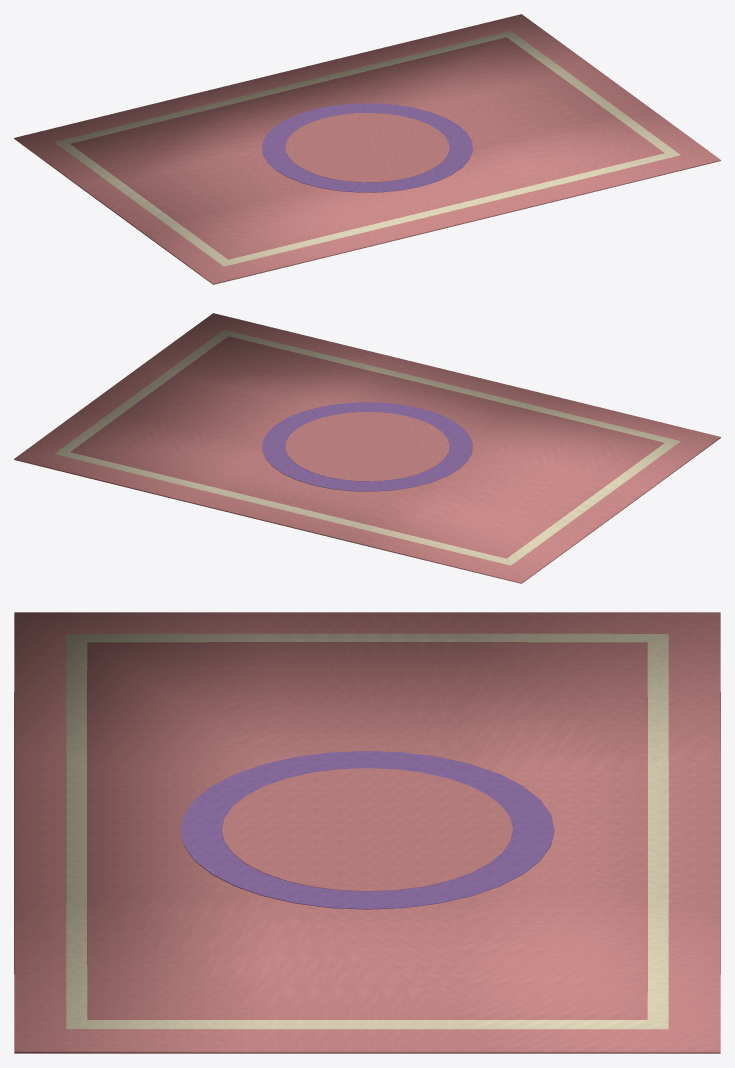
File: rug_red.glb
3 views of the same model, one above another, from view 1: azimuth 30°, elevation 25°; view 2: azimuth 150°, elevation 25°; view 3: azimuth 270°, elevation 25° (orthographic). The views are drawn at different scales.
Parts seen in each view (by area): view 1: rug_red_body; view 2: rug_red_body; view 3: rug_red_body.
Part boxes in pixels (x1,y1,x2,y2): rug_red_body: [14, 14, 720, 284]; rug_red_body: [14, 313, 720, 583]; rug_red_body: [14, 612, 720, 1053].
Bounding box in the file's own units: 5 × 0.027 × 3.4.
3 materials, 3 textured.
